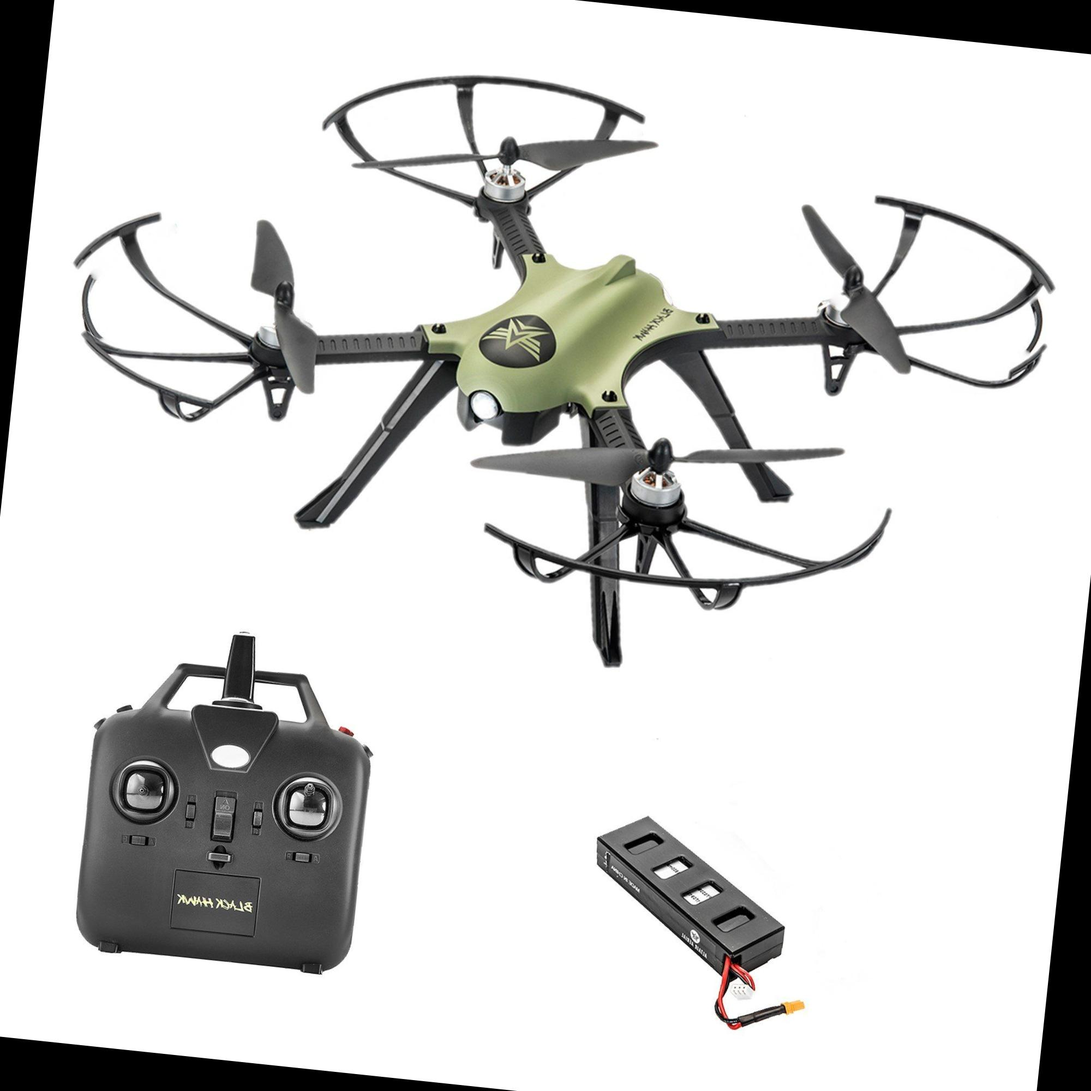drone: (24, 16, 1086, 662)
